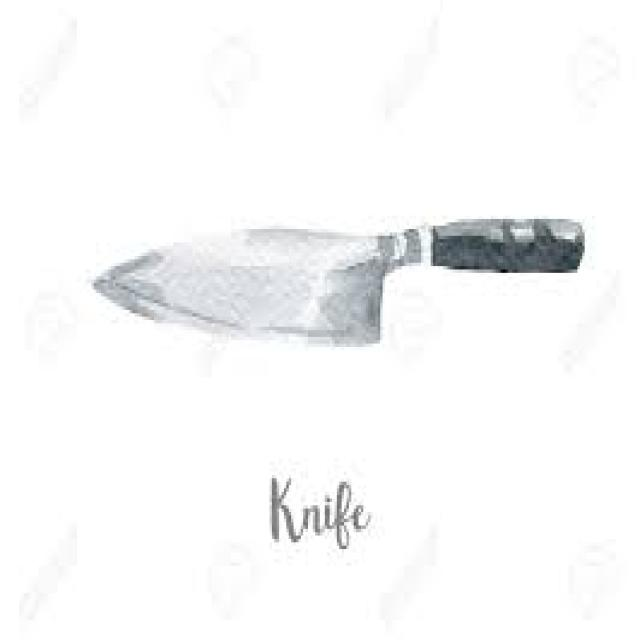Knife: (91, 216, 584, 347)
